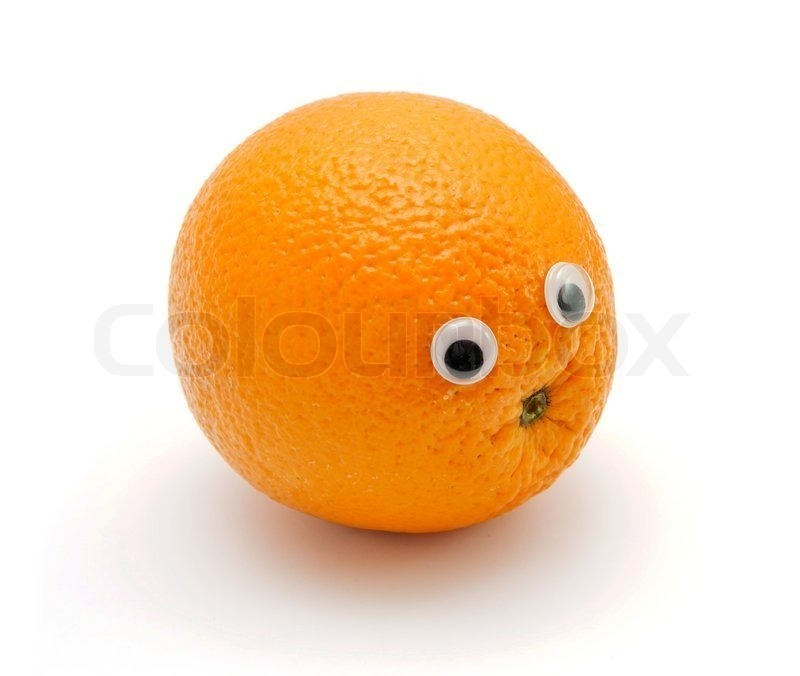orange: (155, 87, 615, 539)
